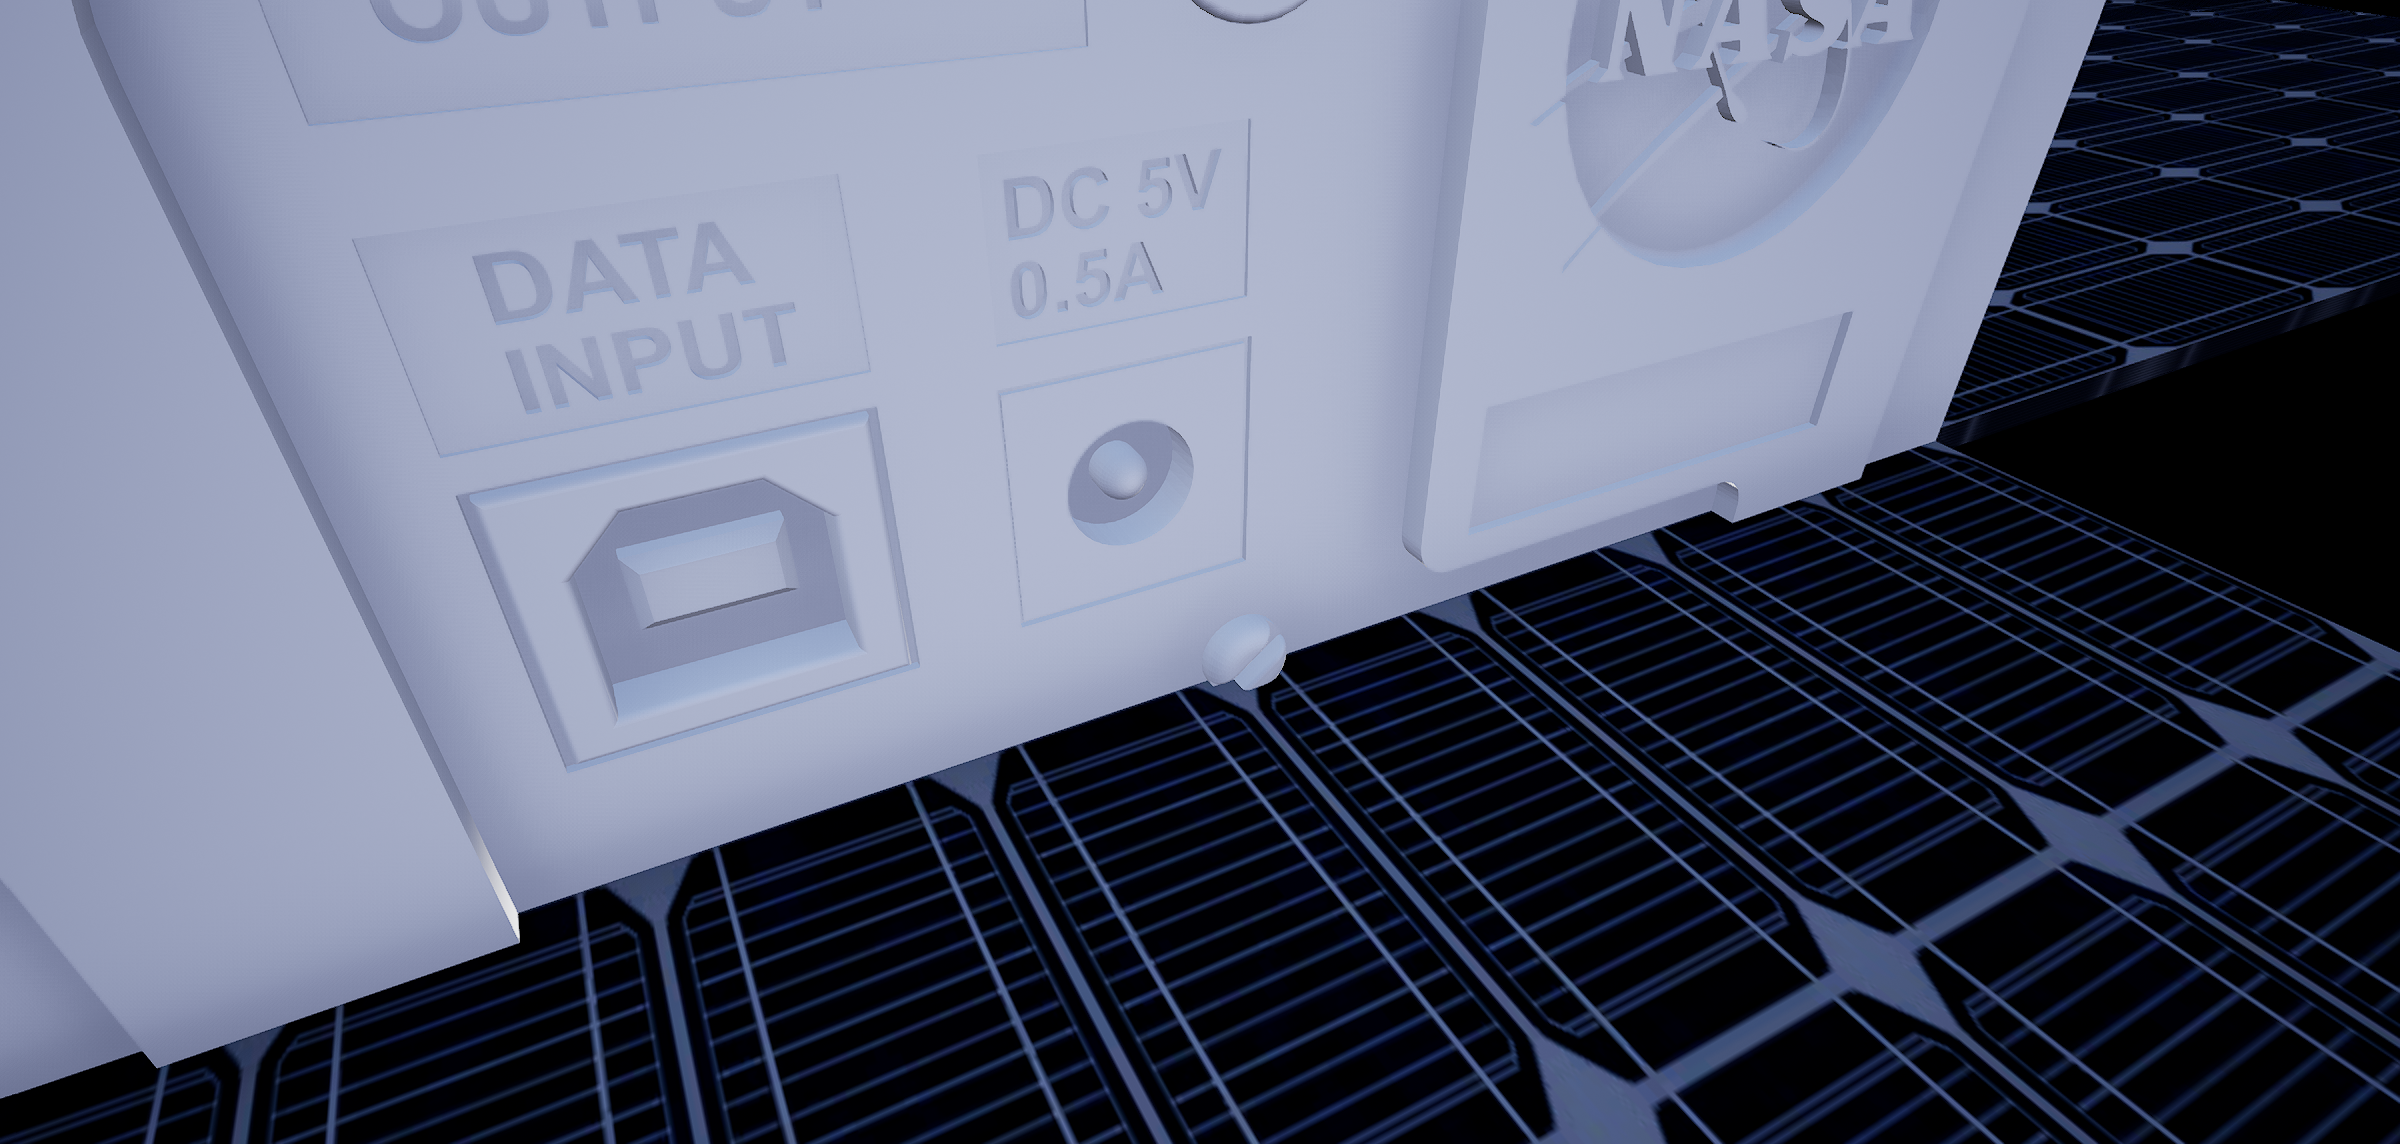dc: (1052, 412, 1223, 554)
usb: (549, 495, 894, 726)
